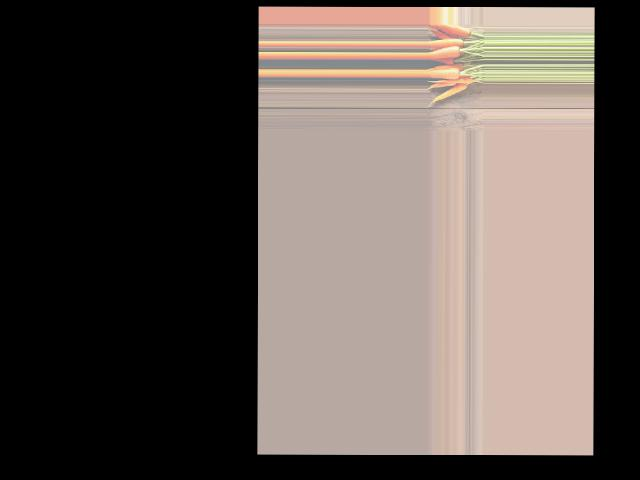carrot: (404, 96, 472, 126)
